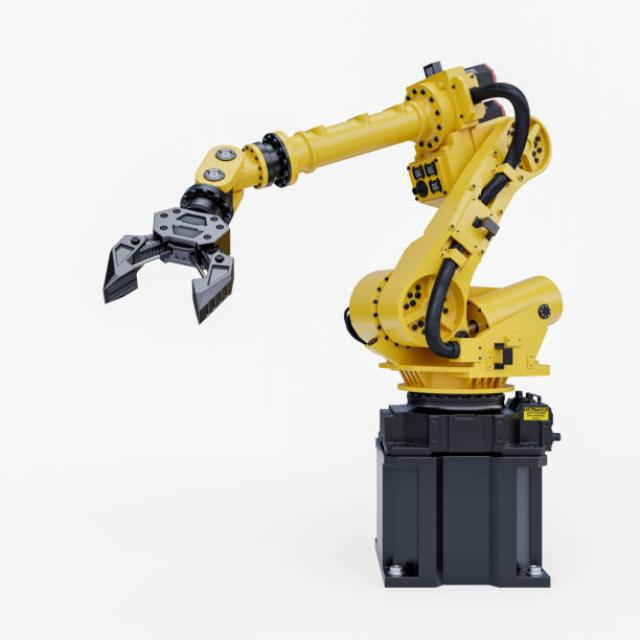Robotic-arm: (87, 50, 585, 408)
